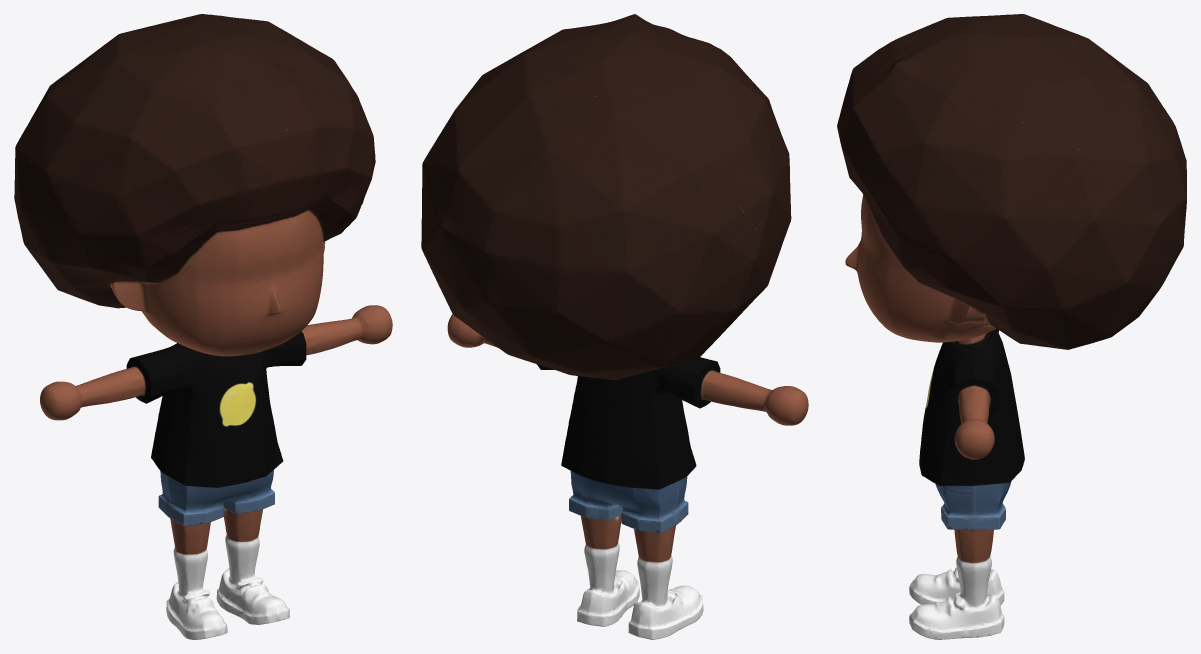
File: Player.fbx
3 views of the same model, side by side, from view 1: azimuth 30°, elevation 25°; view 2: azimuth 150°, elevation 25°; view 3: azimuth 270°, elevation 25° (orthographic). The views are drawn at different scales.
Visible parts, largest first — view 1: Mesh_0; view 2: Mesh_0; view 3: Mesh_0.
Part boxes in pixels (left/top/right/bottom): Mesh_0: left=14, top=14, right=392, bottom=639; Mesh_0: left=421, top=14, right=808, bottom=639; Mesh_0: left=837, top=14, right=1186, bottom=639.
Bounding box in the file's own units: 120 × 190 × 103.
Materials: 1 (1 with a texture image).
